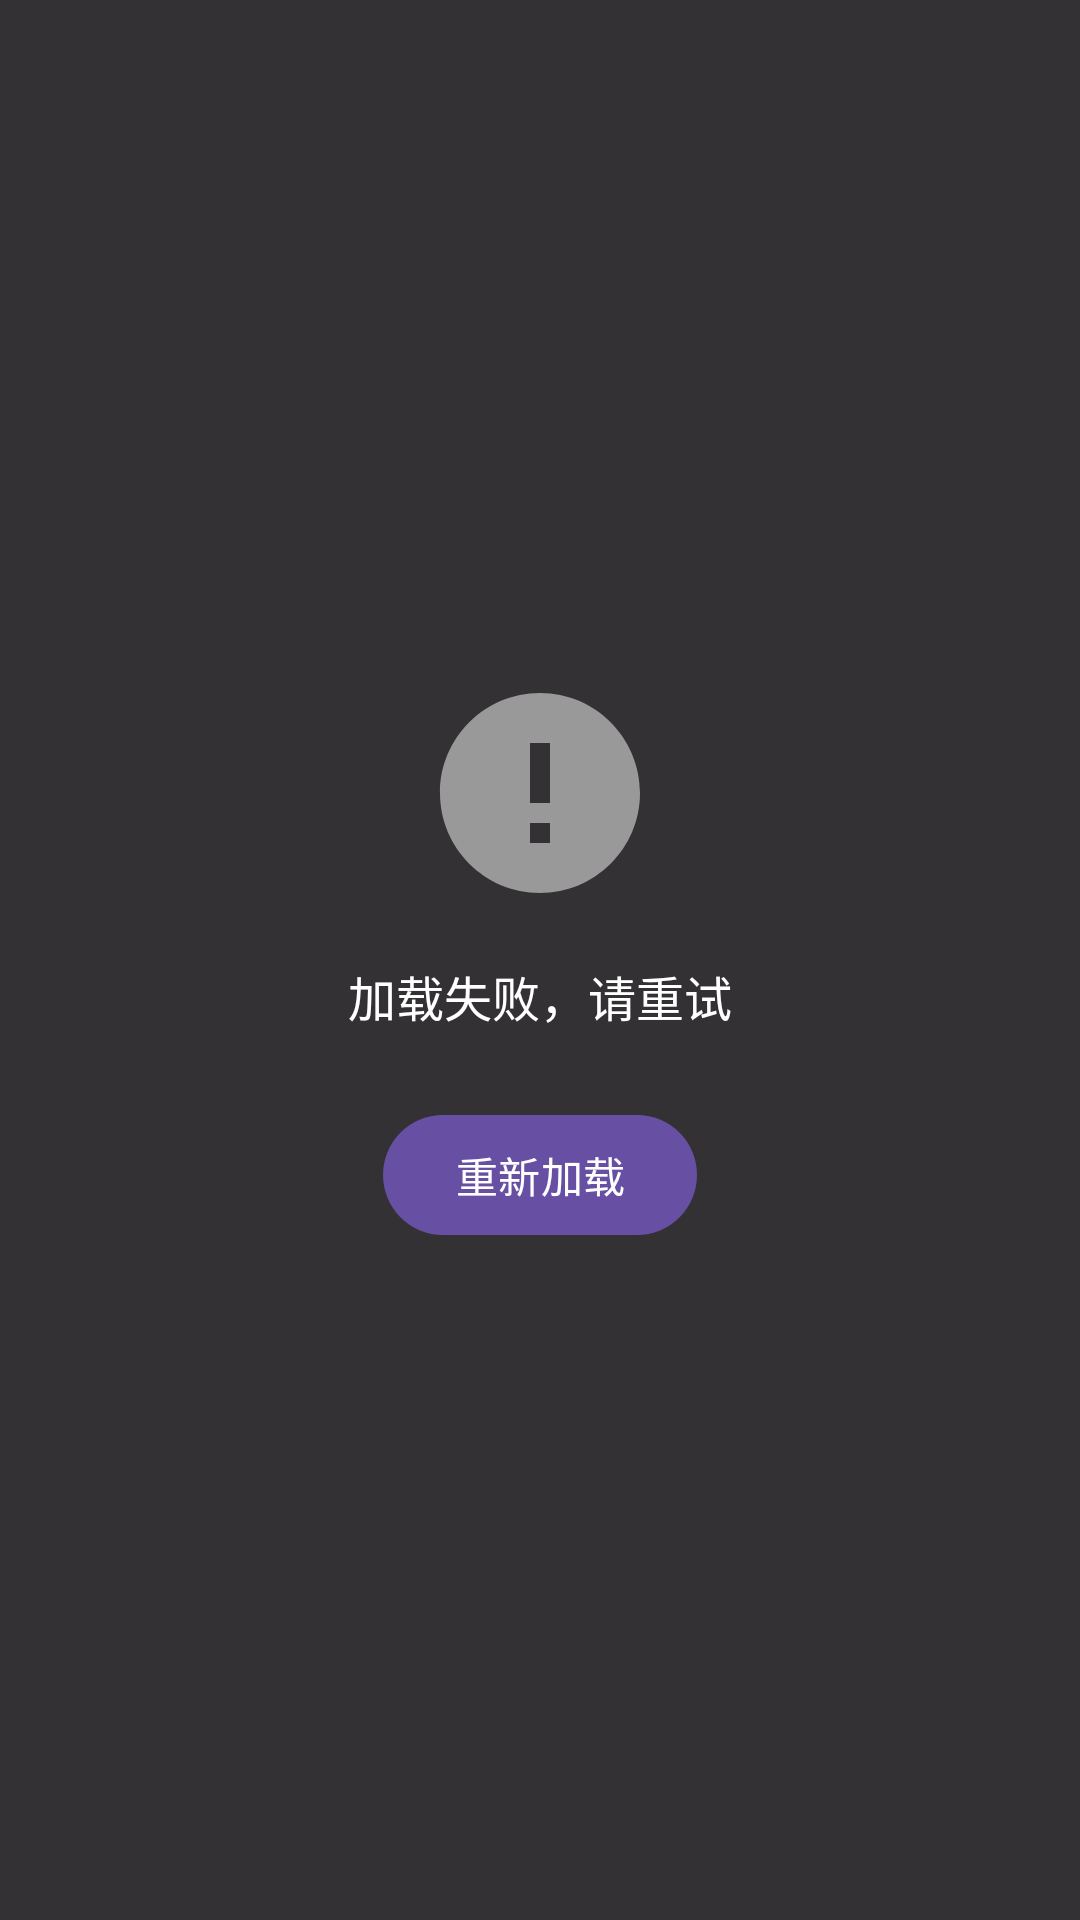

Screen size 1080*1920. Icon name, then its box in pixels as (left=x1, top=y1, right=x2, bottom=y2):
error: (left=440, top=693, right=640, bottom=893)
